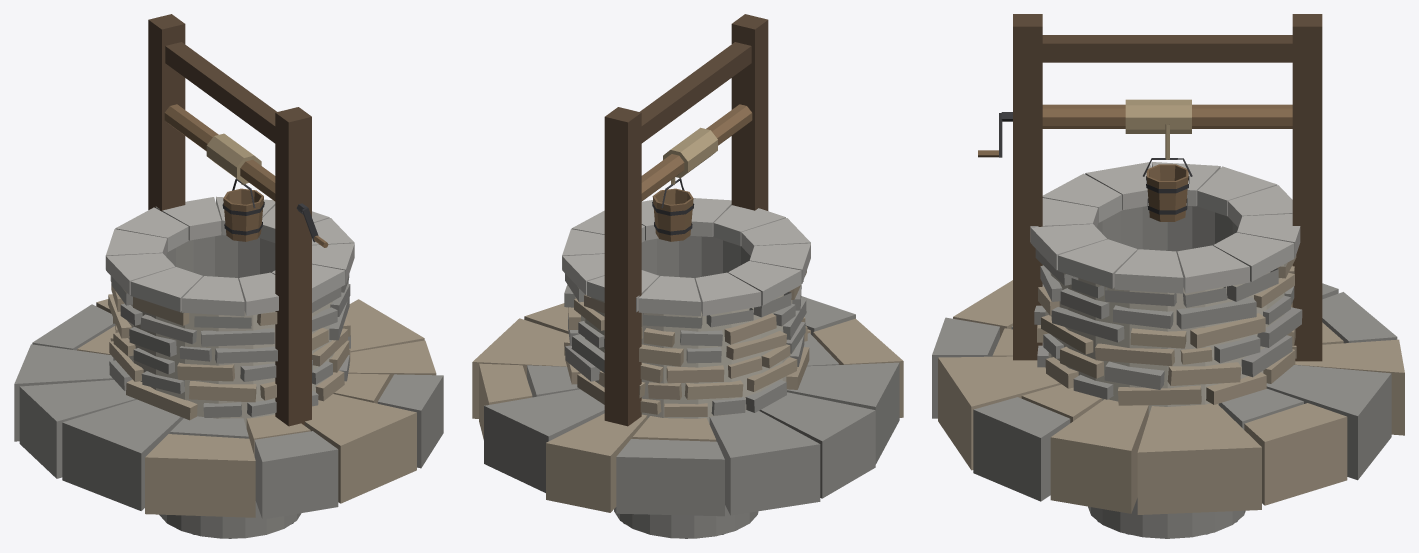
The model's file is well_stone_b.glb.
3 renders of one model, left to right at view 1: azimuth 30°, elevation 25°; view 2: azimuth 150°, elevation 25°; view 3: azimuth 270°, elevation 25°, orthographic. The views are drawn at different scales.
Parts seen in each view (by area): view 1: well_stone_b_lod0; view 2: well_stone_b_lod0; view 3: well_stone_b_lod0.
Boxes of the visible parts, x1,y1,x2,y2 form: well_stone_b_lod0: [14, 14, 443, 538]; well_stone_b_lod0: [472, 14, 903, 538]; well_stone_b_lod0: [932, 14, 1404, 538].
Size of what is drawn, in the model's own units: 2.63 by 3.06 by 2.71.
